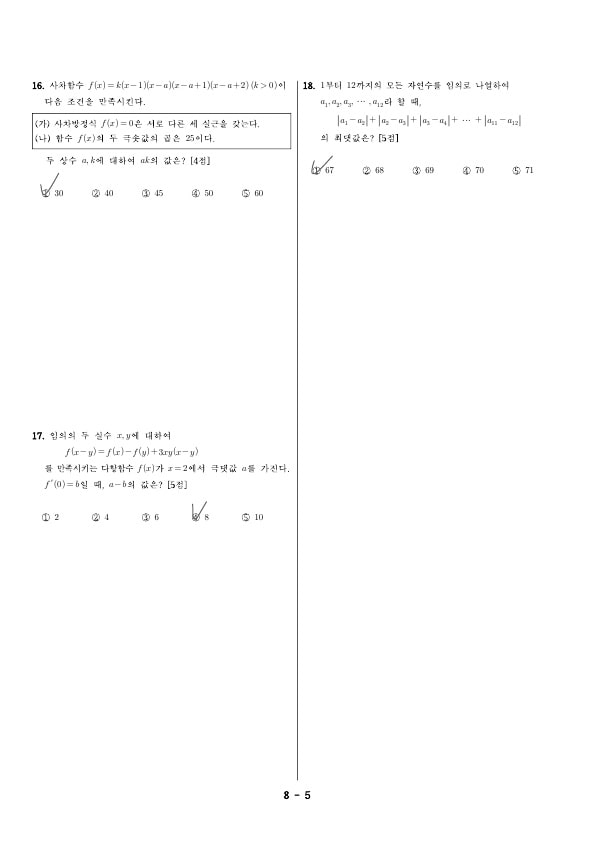question: (22, 73, 296, 209), (297, 68, 546, 190), (25, 422, 294, 534)
